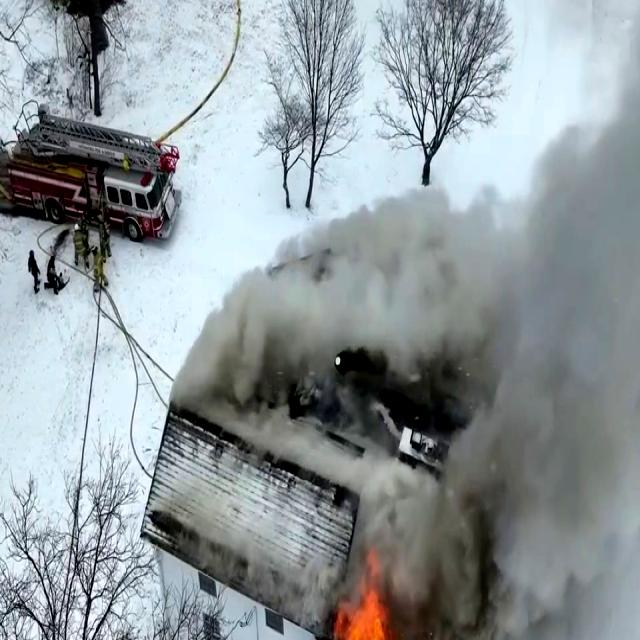fire: (332, 575, 389, 640)
smoke: (251, 288, 640, 453)
